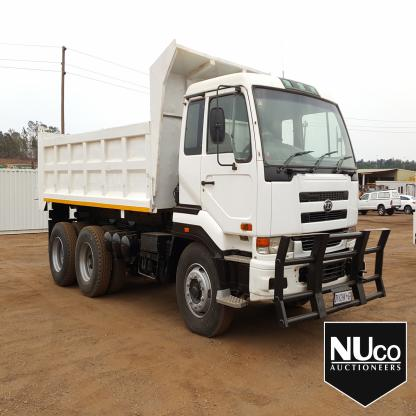dump_truck: (26, 27, 398, 341)
